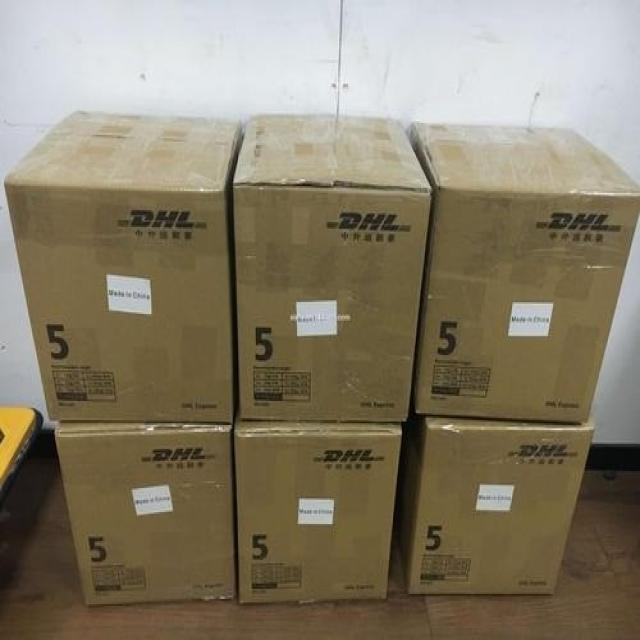box: (4, 109, 243, 423), (410, 121, 640, 423), (232, 114, 433, 422), (394, 404, 595, 596), (54, 422, 237, 606), (234, 404, 402, 604)
